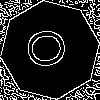O: (25, 25, 77, 70)
